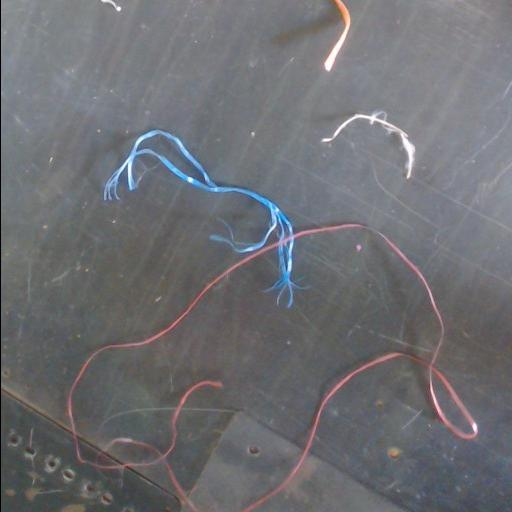thread: (241, 232, 477, 511), (104, 130, 366, 347), (97, 380, 220, 507), (322, 113, 414, 178), (66, 345, 116, 447), (323, 0, 350, 70)
